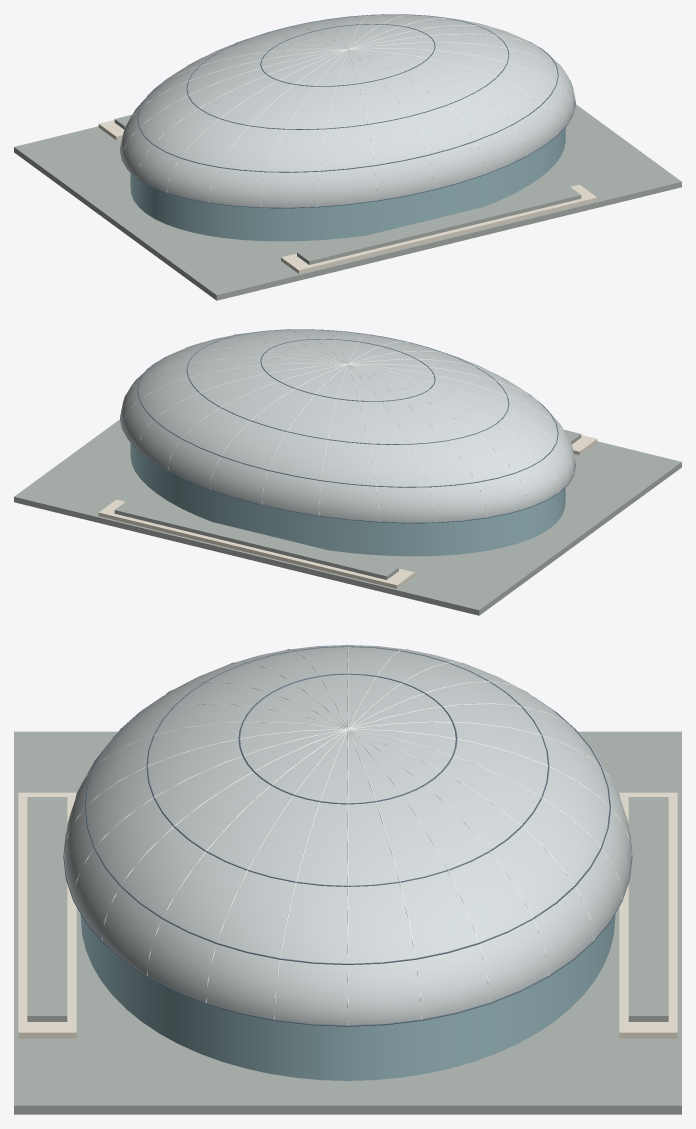
Rendered from dome.glb.
3 views of the same model, one above another, from view 1: azimuth 30°, elevation 25°; view 2: azimuth 150°, elevation 25°; view 3: azimuth 270°, elevation 25° (orthographic). The views are drawn at different scales.
Parts seen in each view (by area): view 1: dome; view 2: dome; view 3: dome.
Part boxes in pixels (x1,y1,x2,y2): dome: (14, 14, 681, 300); dome: (14, 329, 681, 615); dome: (14, 644, 681, 1114).
Size of the model in its own units: 53 by 13.14 by 40.
